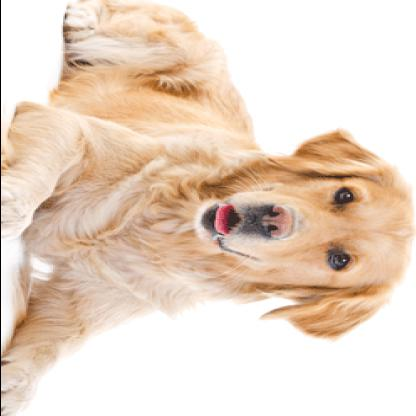DOG: (1, 0, 413, 415)
